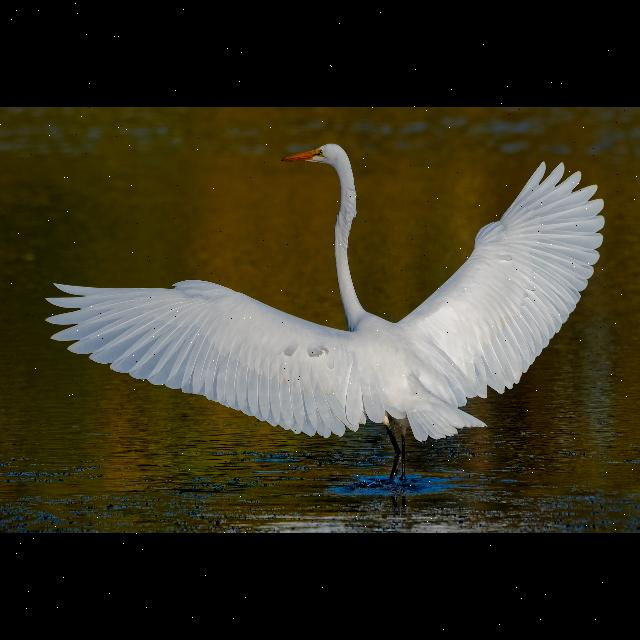egret: (52, 129, 616, 509)
